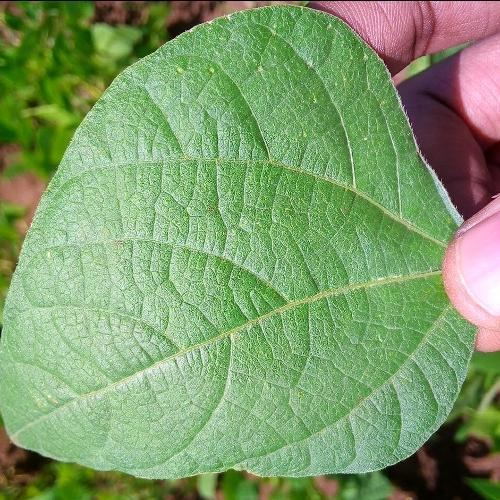sehat: (46, 59, 454, 496)
